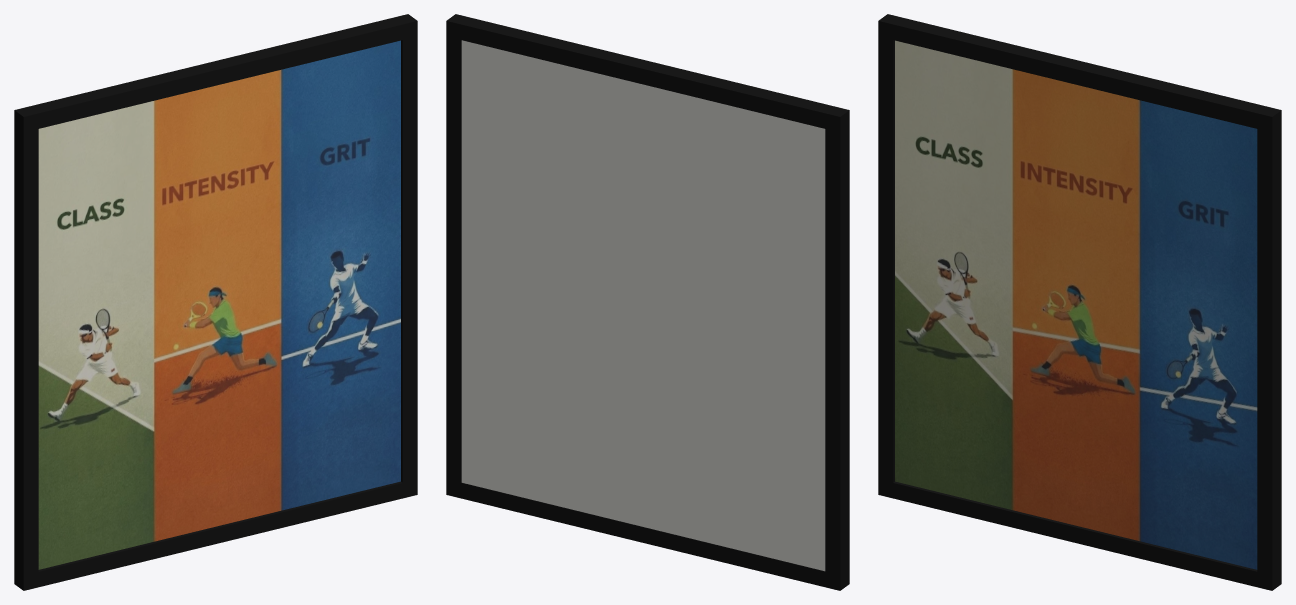
The model's file is class-intensity-grit-tennis-framed-poster.glb.
The picture shows the model from 3 angles, left to right: view 1: azimuth 30°, elevation 25°; view 2: azimuth 150°, elevation 25°; view 3: azimuth 330°, elevation 25°; orthographic projection.
Visible parts, largest first — view 1: Class. Intensity. Grit. – Tennis-Poster; view 2: Class. Intensity. Grit. – Tennis-Poster; view 3: Class. Intensity. Grit. – Tennis-Poster.
Boxes of the visible parts, x1=… form: Class. Intensity. Grit. – Tennis-Poster: x1=14, y1=14, x2=417, y2=590; Class. Intensity. Grit. – Tennis-Poster: x1=446, y1=14, x2=849, y2=590; Class. Intensity. Grit. – Tennis-Poster: x1=878, y1=14, x2=1281, y2=590.
Bounding box in the file's own units: 0.5302 × 0.6096 × 0.022.
Materials: 1 (1 with a texture image).
